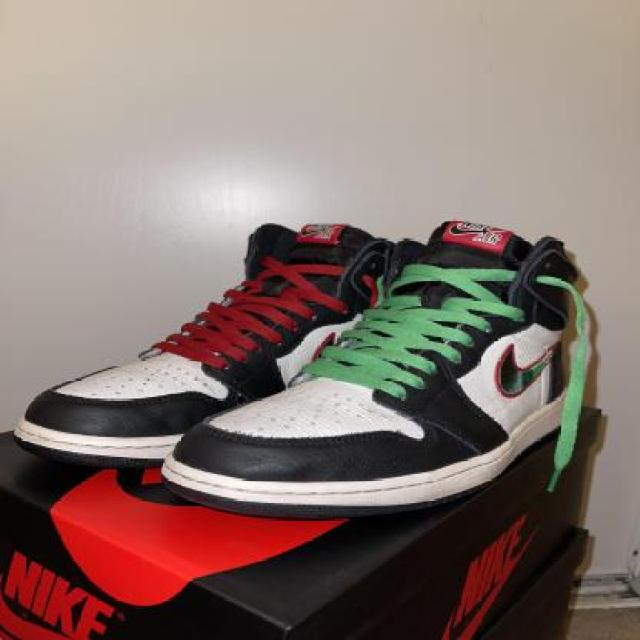shoe: (167, 219, 602, 512), (0, 219, 392, 462)
